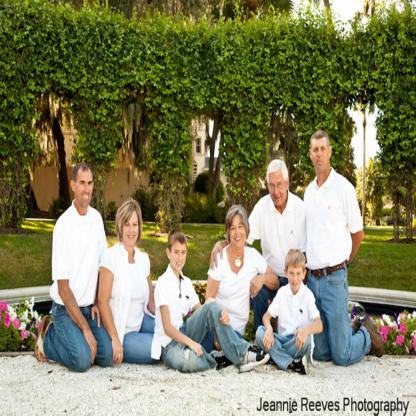face: (77, 170, 94, 208), (124, 208, 141, 246), (270, 173, 287, 207), (231, 215, 247, 249), (313, 140, 329, 173), (172, 239, 188, 270), (288, 262, 304, 290)
